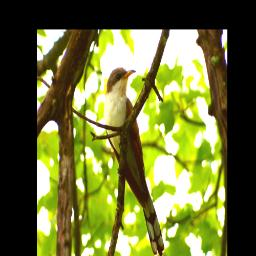Cuckoo: (103, 67, 165, 256)
